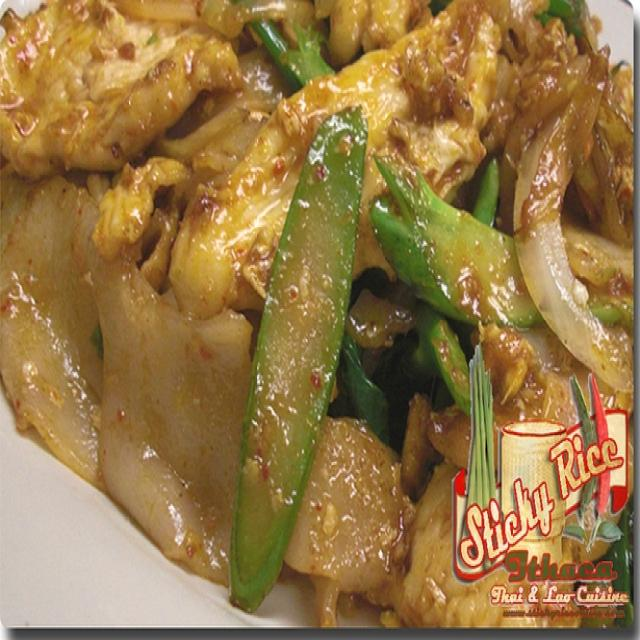面条主食: (37, 18, 615, 602)
